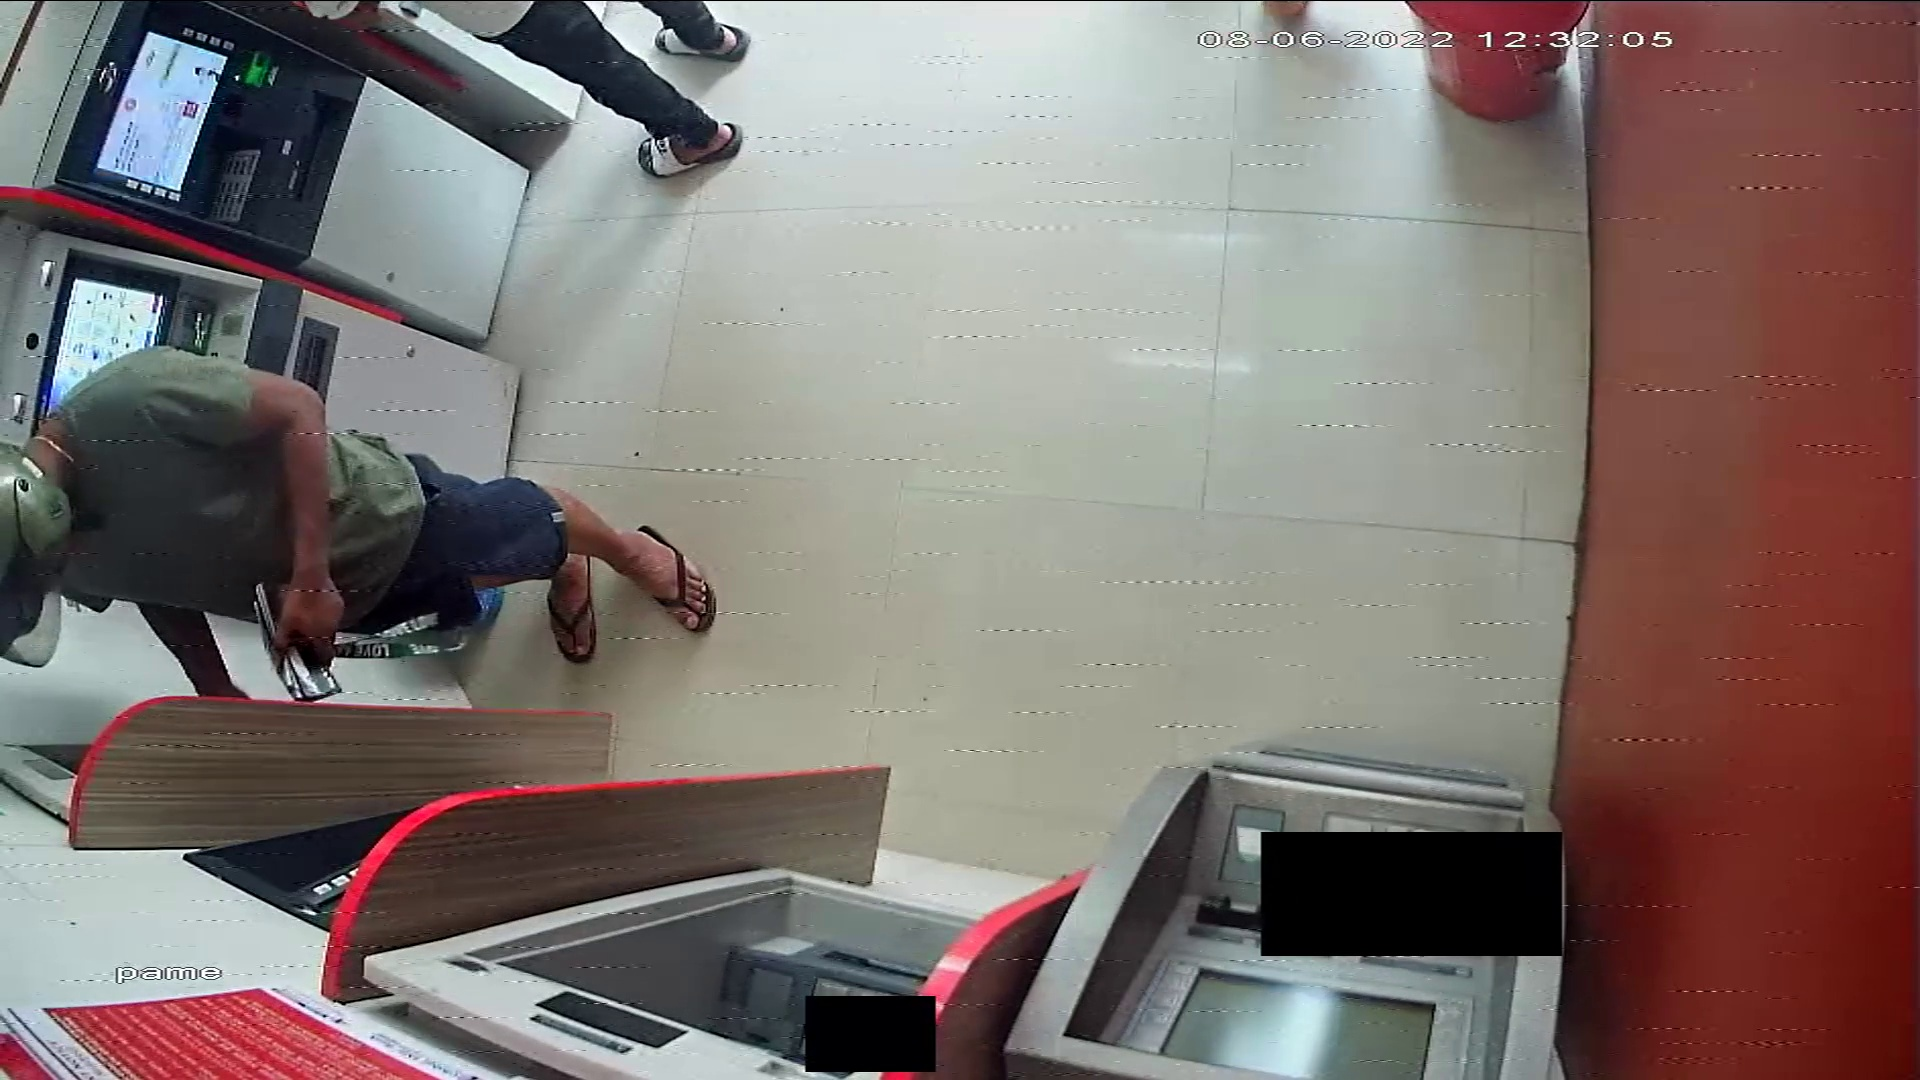helmet: (1, 442, 75, 666)
person: (1, 346, 719, 696)
